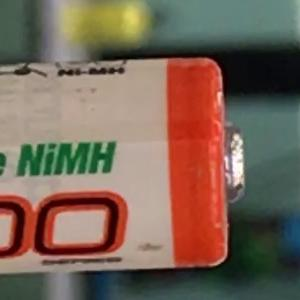NIMH: (7, 132, 126, 186)
